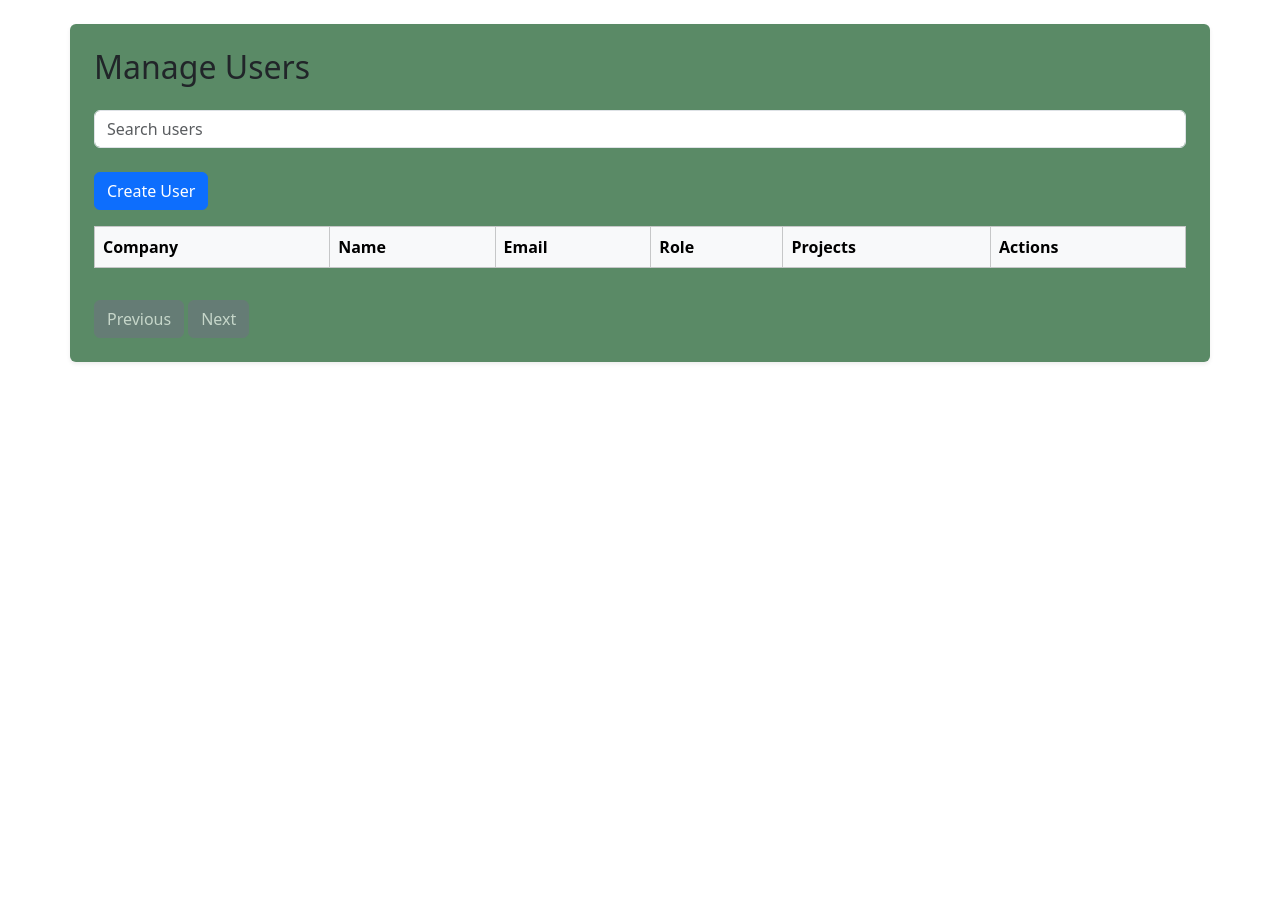
Test: ManageUsers Page › opens the form to create a new user
Check: the heading "Manage Users" is shown, box [94,45,310,88]
Click the button "Create User".
click(151, 191)  # box [94,172,208,210]
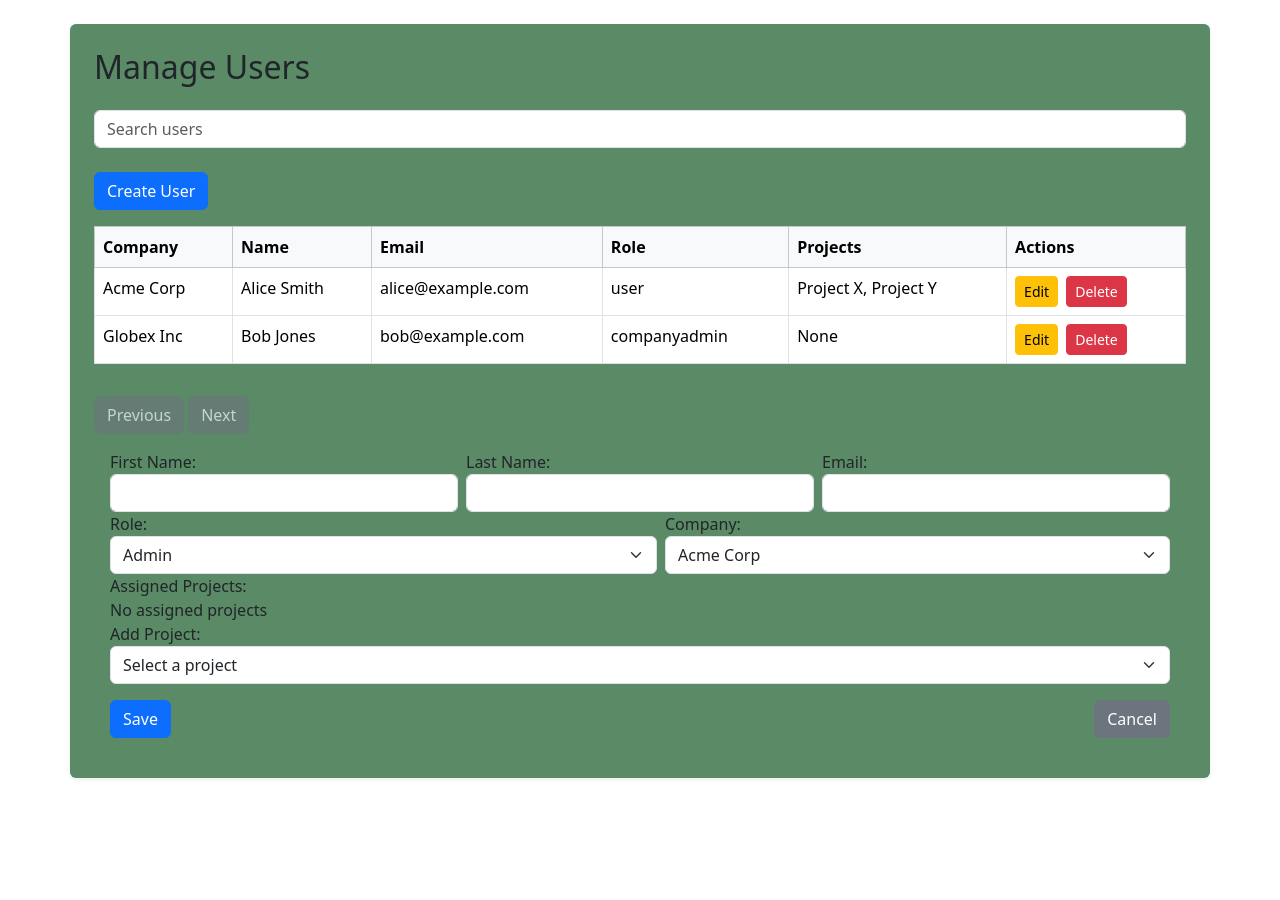
Check: the field labelled "First Name:" is shown, box [110,474,458,512]
Check: the field labelled "Email:" is shown, box [822,474,1170,512]
